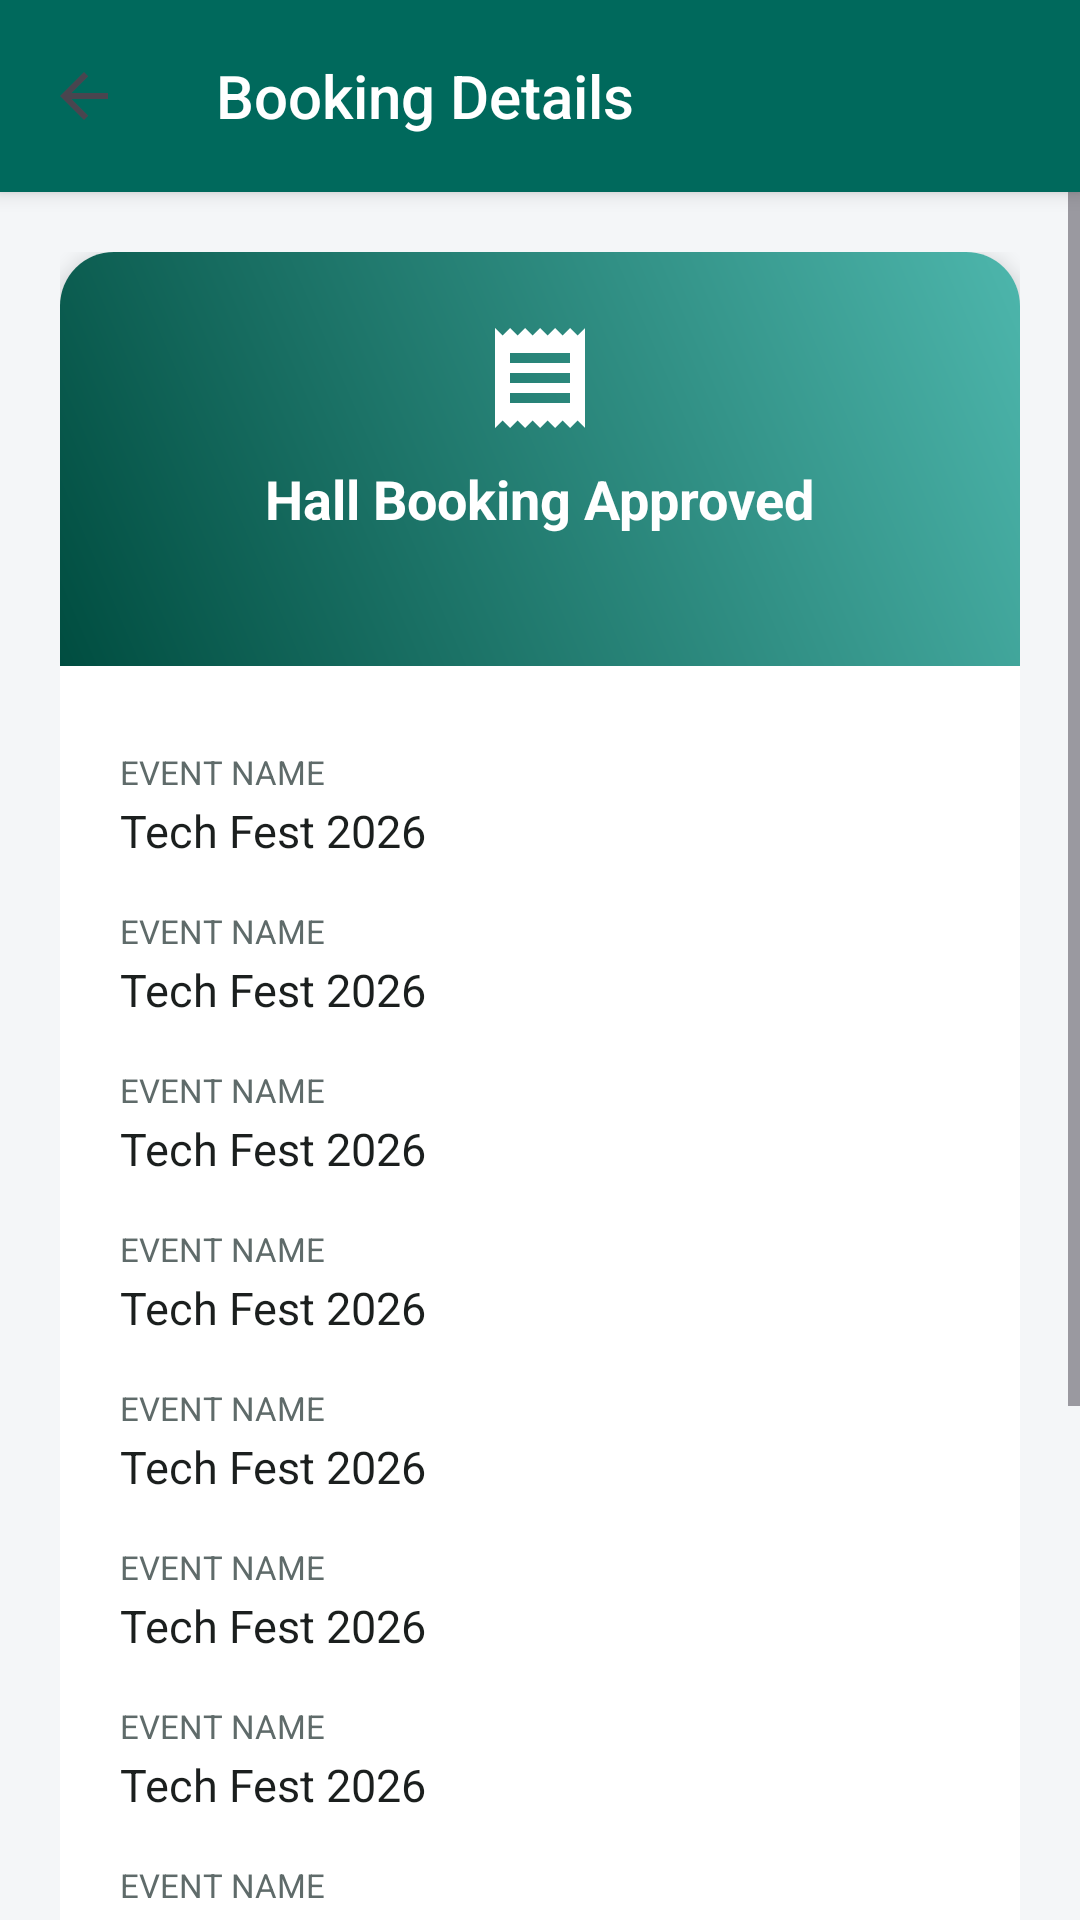

Named icons in this screenshot (1080x1920) and their bounding boxes, (x1, y1, x2, y2):
receipt: (495, 328, 585, 428)
